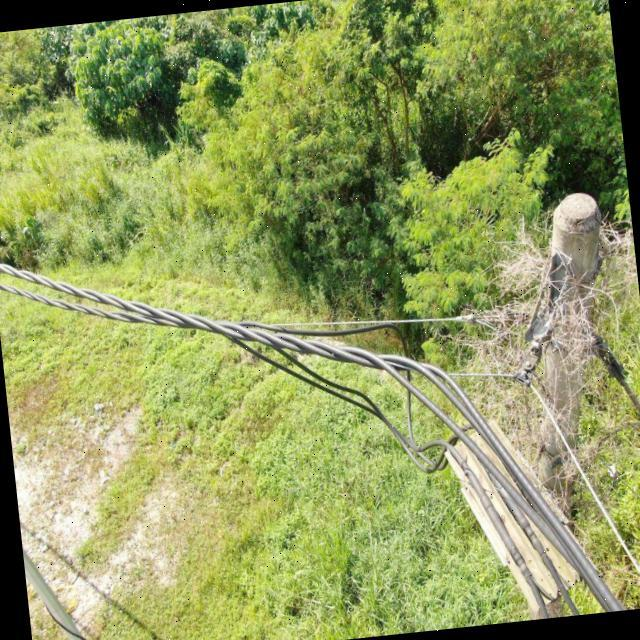critical vegetation: (469, 185, 640, 508)
